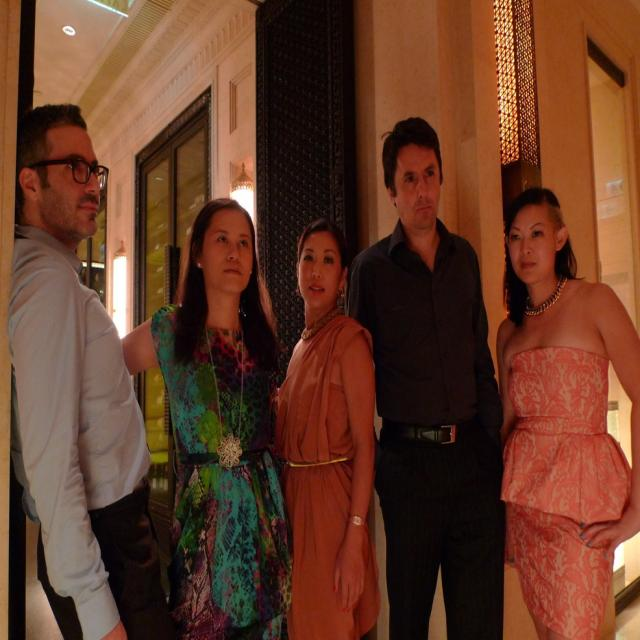Glasses: (27, 152, 103, 197)
